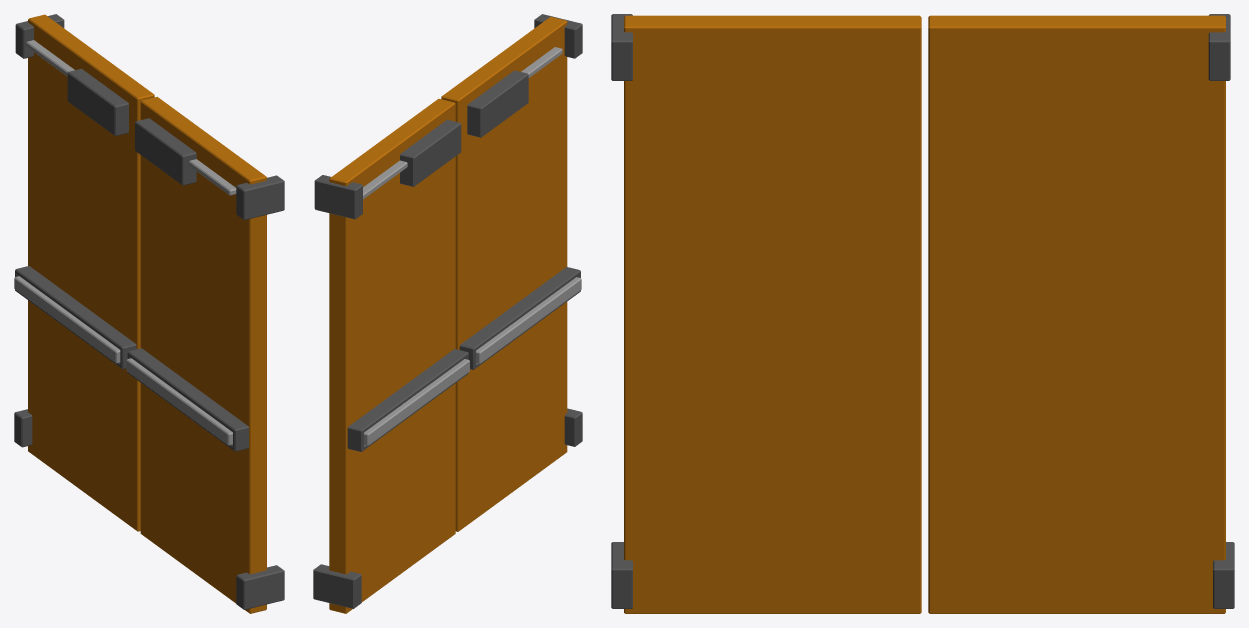
The model's file is Static Door.fbx.
3 renders of one model, left to right at view 1: azimuth 30°, elevation 25°; view 2: azimuth 150°, elevation 25°; view 3: azimuth 270°, elevation 25°, orthographic. The views are drawn at different scales.
Parts seen in each view (by area): view 1: Cube.043; view 2: Cube.043; view 3: Cube.043.
Boxes of the visible parts, x1=… form: Cube.043: x1=14, y1=14, x2=284, y2=613; Cube.043: x1=313, y1=14, x2=582, y2=613; Cube.043: x1=611, y1=14, x2=1234, y2=613.
Size of the model in its own units: 99.51 by 845 by 812.
